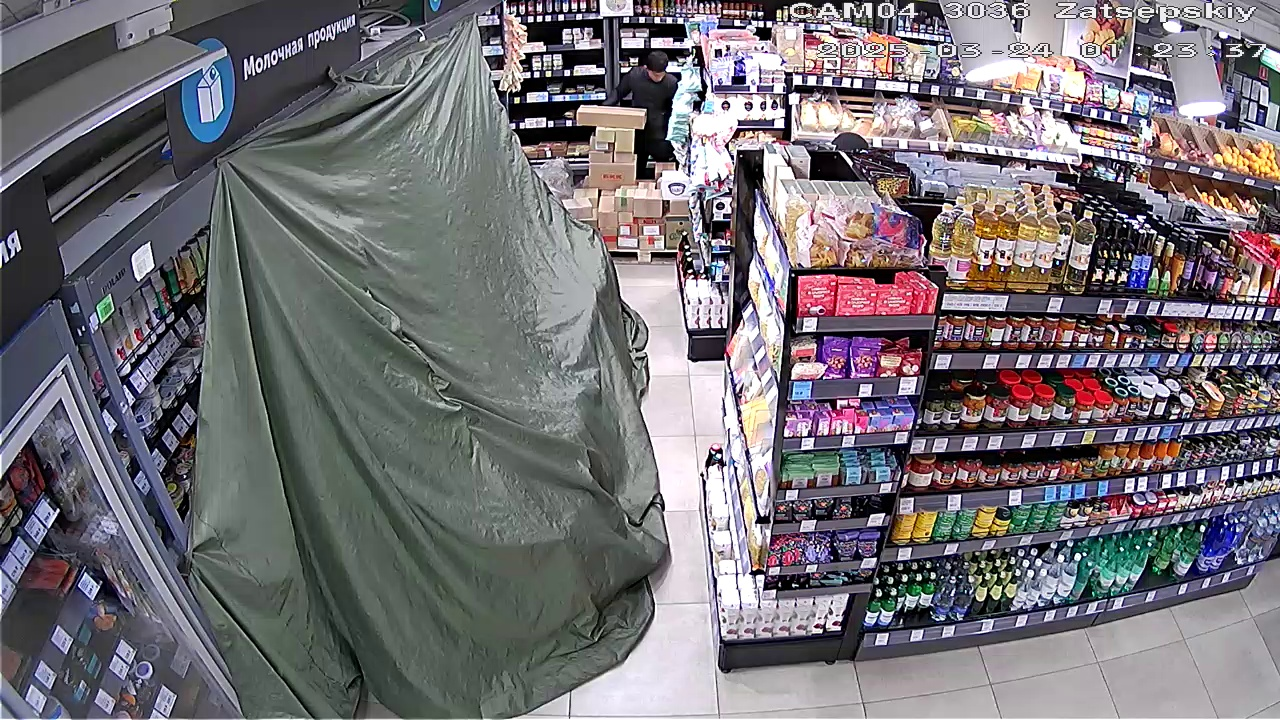Human: (609, 47, 679, 161)
dome: (228, 126, 665, 719)
pallet: (582, 118, 699, 260)
